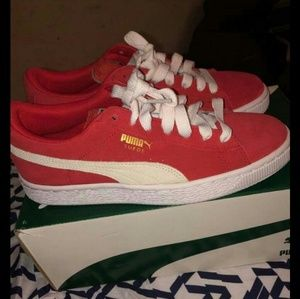Puma Suede Low Red: (9, 74, 280, 213)
